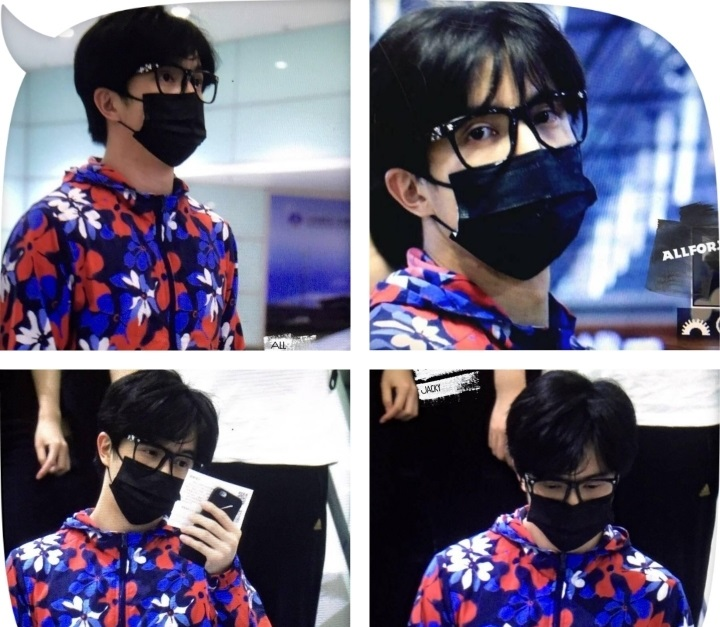face_mask: (429, 55, 585, 251), (128, 46, 208, 163), (530, 443, 615, 549), (115, 423, 196, 524)
